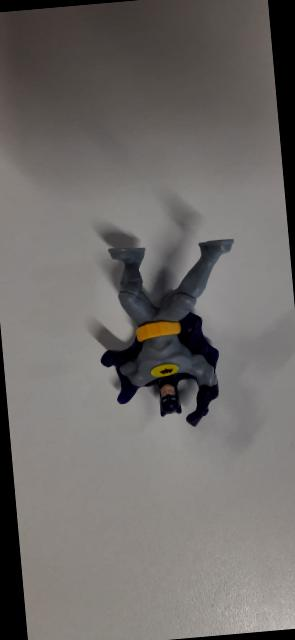Batman: (81, 215, 255, 442)
